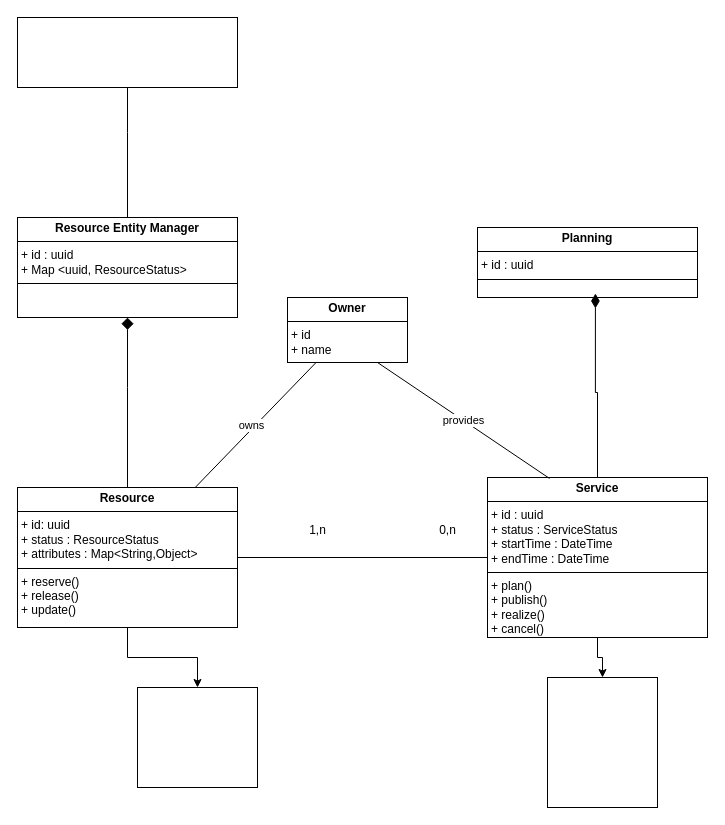
Some shapes in this 725 by 825 pixel diagram are drawn without their labels. The box of each missing label's shape, as (x1, y1, x2, y2) in pixels:
<<Enumeration>> ResourceStatus FREE AVAILABLE UNAVAILABLE: (136, 686, 258, 788)
<<Enumeration>> ServiceStatus PLANNED PUBLISHED IN_PROGRESS COMPLETED CANCELLED: (546, 676, 658, 808)
Updater + id : uuid: (16, 16, 238, 88)
